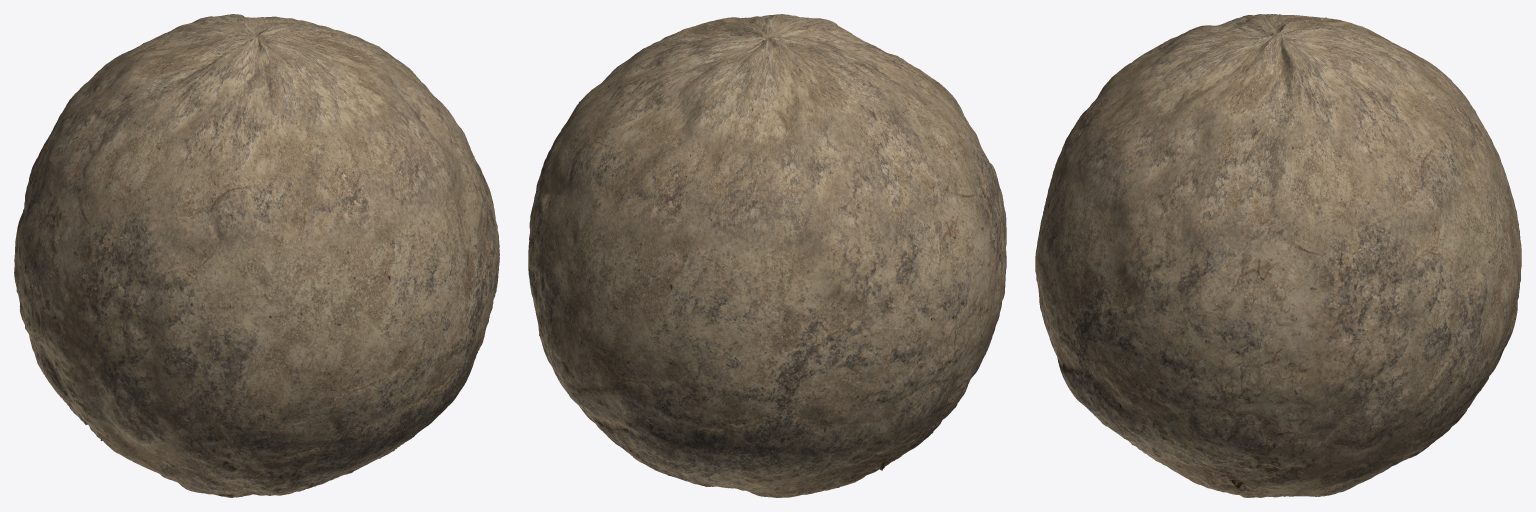
The model's file is rock_08.gltf.
3 renders of one model, left to right at view 1: azimuth 30°, elevation 25°; view 2: azimuth 150°, elevation 25°; view 3: azimuth 270°, elevation 25°, orthographic.
Parts seen in each view (by area): view 1: sphere_gltf; view 2: sphere_gltf; view 3: sphere_gltf.
Boxes of the visible parts, bbox=[...] form: sphere_gltf: bbox=[14, 14, 499, 497]; sphere_gltf: bbox=[528, 14, 1006, 497]; sphere_gltf: bbox=[1035, 14, 1521, 497].
Size of the model in its own units: 1.51 by 1.52 by 1.51.
Materials: 1 (1 with a texture image).
